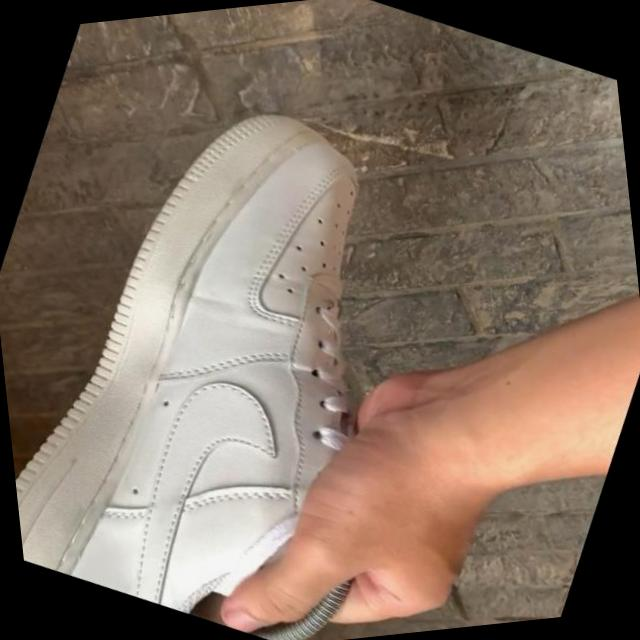nike_fake_airforce: (0, 29, 524, 640)
